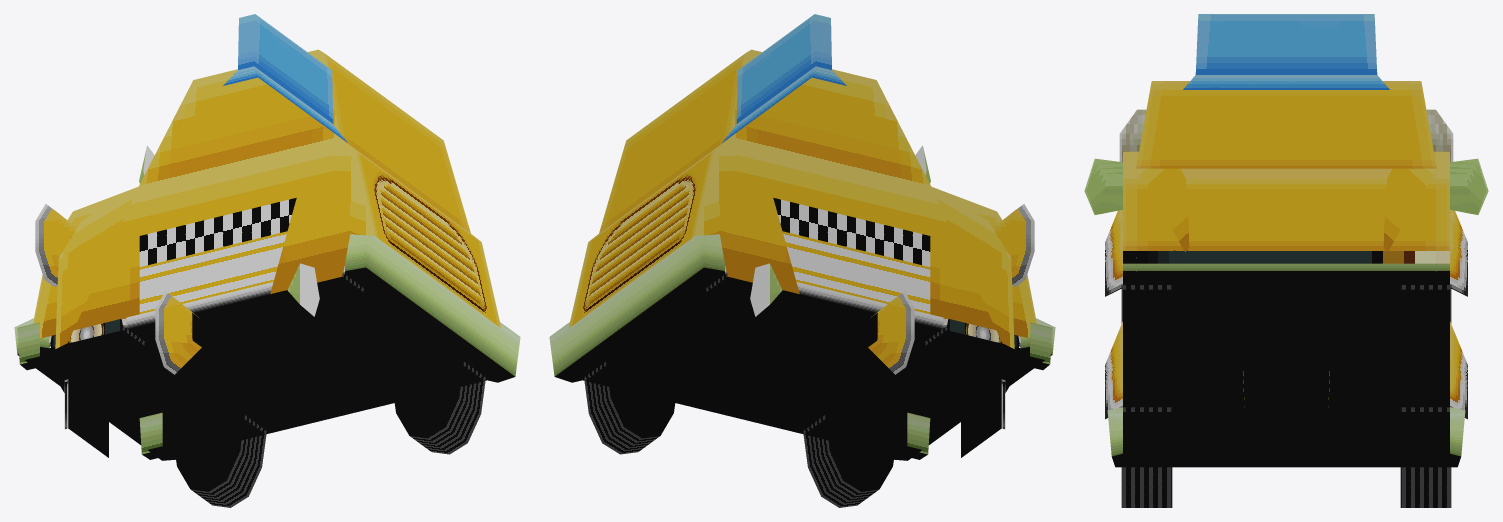
Rendered from ps2_save-icons_crpachinkoyellowcabpachittechonmagetatsujin6.glb.
3 renders of one model, left to right at view 1: azimuth 30°, elevation 25°; view 2: azimuth 150°, elevation 25°; view 3: azimuth 270°, elevation 25°, orthographic. The views are drawn at different scales.
Visible parts, largest first — view 1: view.ico; view 2: view.ico; view 3: view.ico.
Part boxes in pixels (left/top/right/bottom): view.ico: left=14, top=14, right=520, bottom=507; view.ico: left=549, top=14, right=1055, bottom=507; view.ico: left=1084, top=14, right=1488, bottom=507.
Size of the model in its own units: 3.36 by 3.34 by 2.81.
Materials: 1 (1 with a texture image).
